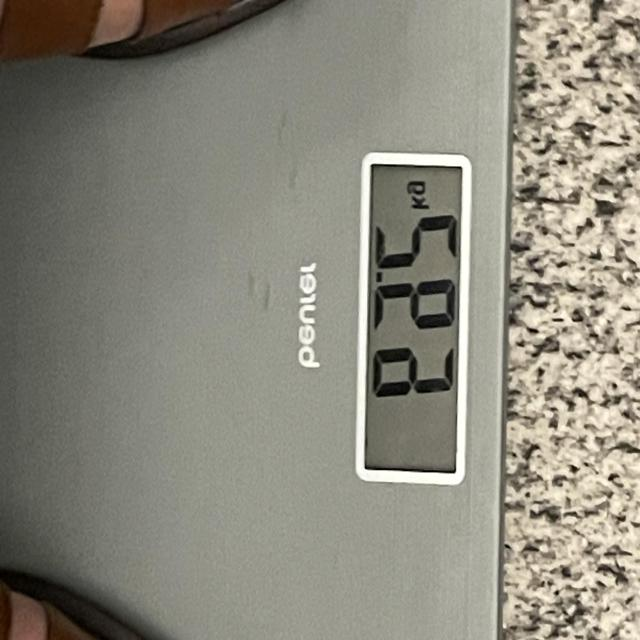ws: (354, 153, 474, 490)
